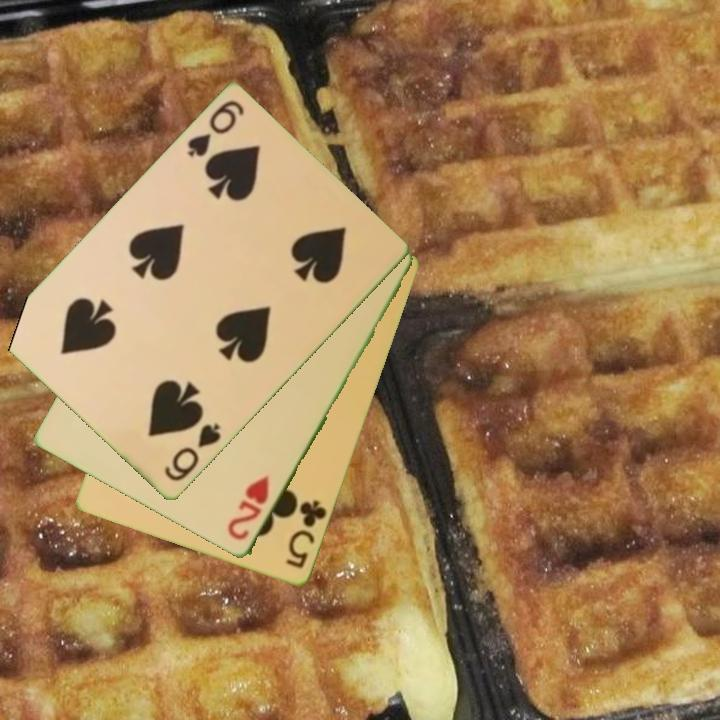2h: (224, 472, 272, 544)
5c: (282, 497, 330, 572)
6s: (183, 97, 247, 161), (161, 420, 224, 485)
